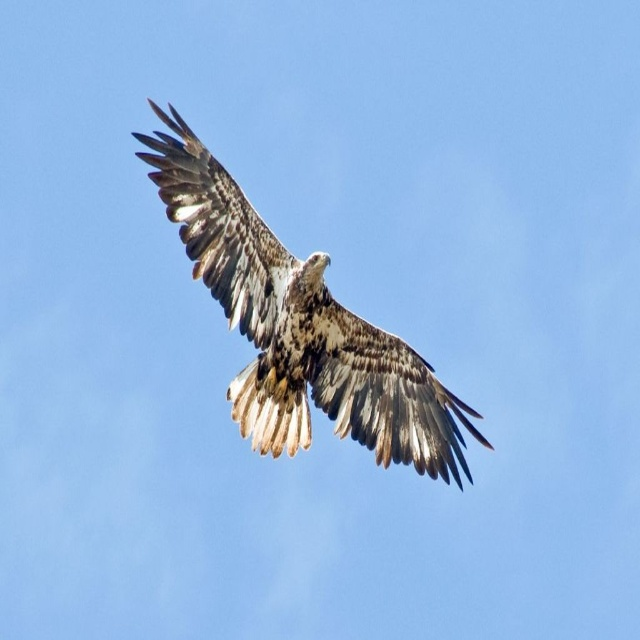Eagle: (130, 95, 495, 493)
